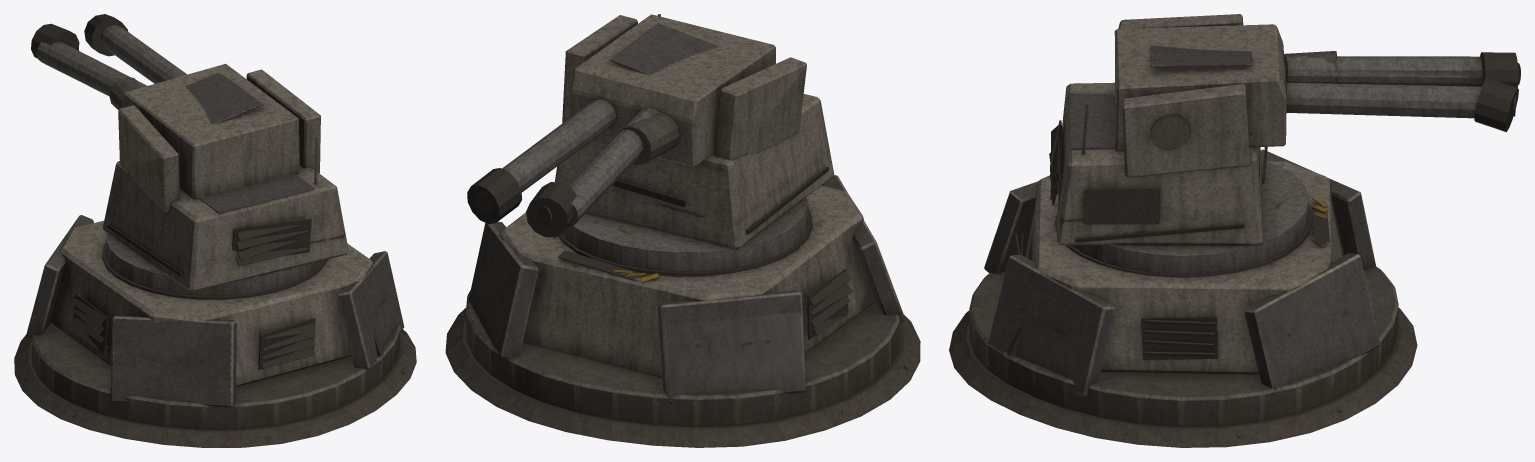
Rendered from ord_gauntlet_wreck.fbx.
3 renders of one model, left to right at view 1: azimuth 30°, elevation 25°; view 2: azimuth 150°, elevation 25°; view 3: azimuth 270°, elevation 25°, orthographic. The views are drawn at different scales.
Visible parts, largest first — view 1: base_bar, turret_bar, barrel_bar; view 2: base_bar, barrel_bar, turret_bar; view 3: base_bar, turret_bar, barrel_bar.
Part boxes in pixels (x1,y1,x2,y2): base_bar: [14, 215, 416, 447]; turret_bar: [102, 69, 348, 291]; barrel_bar: [31, 14, 299, 198]; base_bar: [445, 175, 920, 447]; barrel_bar: [467, 14, 775, 237]; turret_bar: [555, 14, 834, 249]; base_bar: [949, 149, 1417, 447]; turret_bar: [1049, 14, 1267, 245]; barrel_bar: [1114, 24, 1520, 151].
Size of the model in its own units: 1257 by 1082 by 1514.
Materials: 2 (2 with a texture image).
